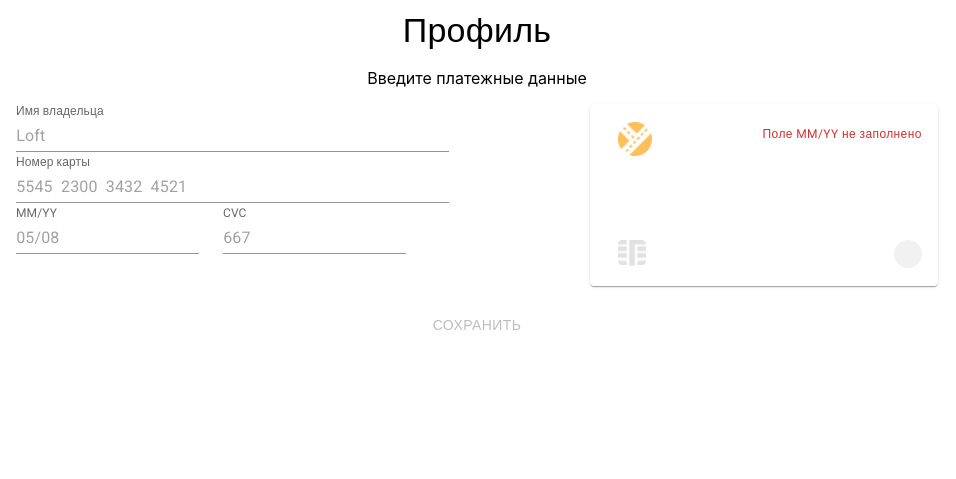
Scenario: ProfileForm component › with invalid inputs › renders the validation errors
Type "000" into the number field labelled "Номер карты" at [233, 187], box [16,171,449,203]
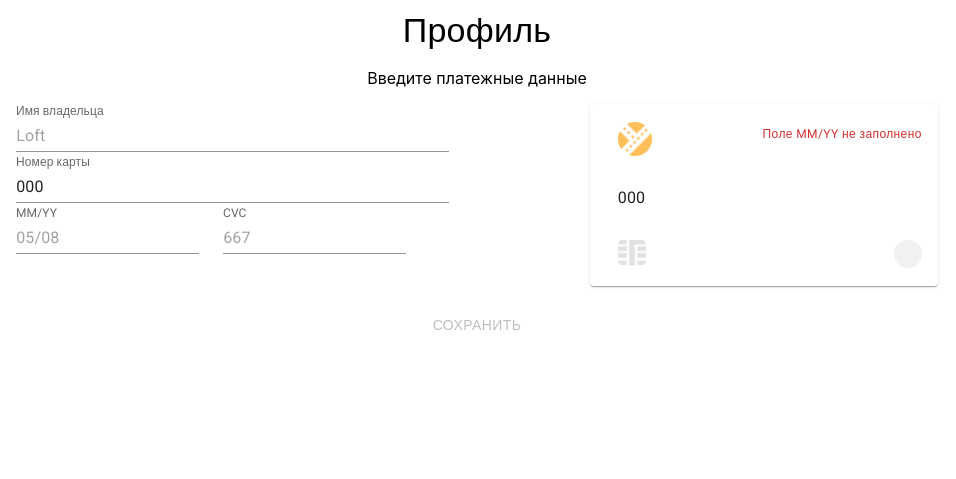
Type "j" into the field labelled "Имя владельца" at [233, 136], box [16,120,449,152]
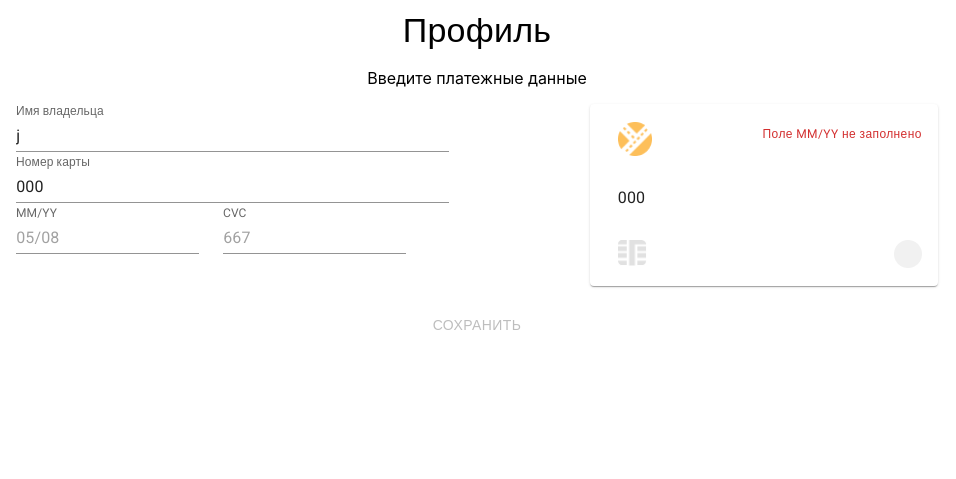
Clear the field labelled "Имя владельца" at [233, 136], box [16,120,449,152]
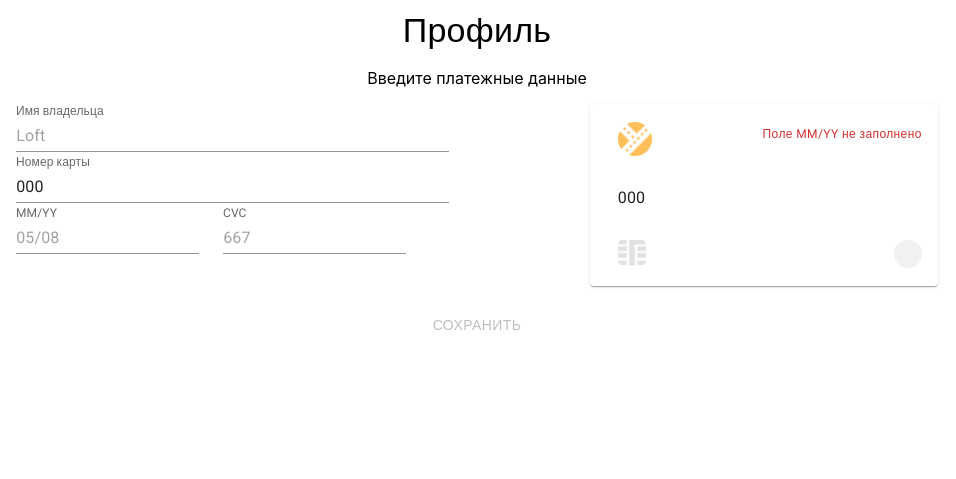
Type "053" into the field labelled "CVC" at [315, 238], box [223,222,406,254]
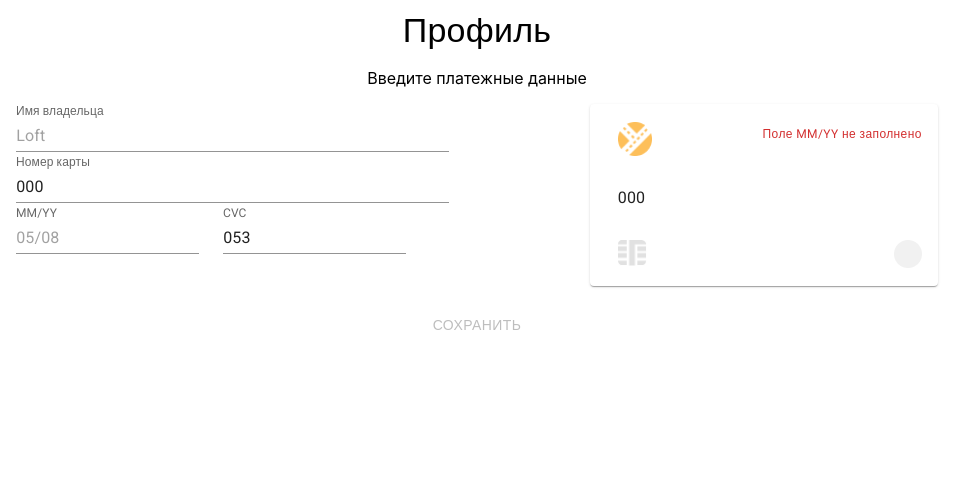
Clear the field labelled "CVC" at [315, 238], box [223,222,406,254]
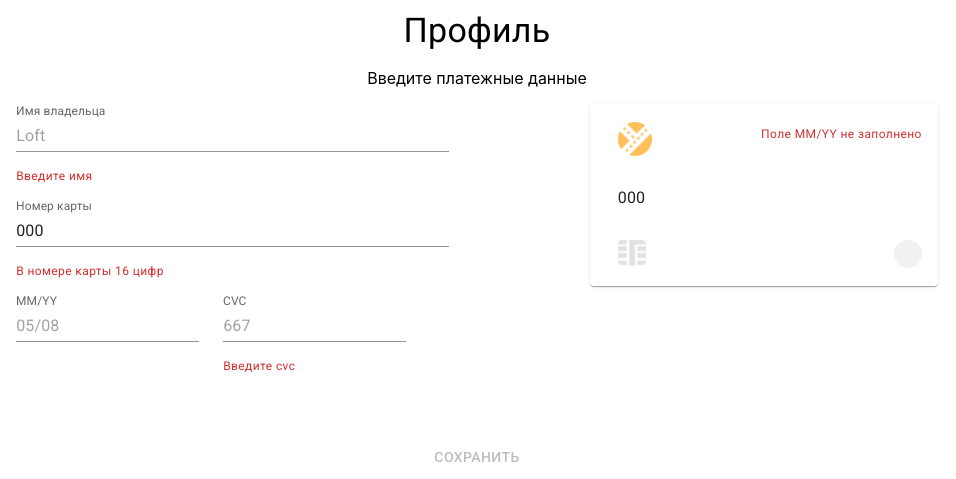
expect the text "В номере карты 16 цифр" is shown: met, box [16,264,164,278]
expect the text "Введите имя" is shown: met, box [16,169,92,183]
expect the text "Введите cvc" is shown: met, box [223,359,295,373]
